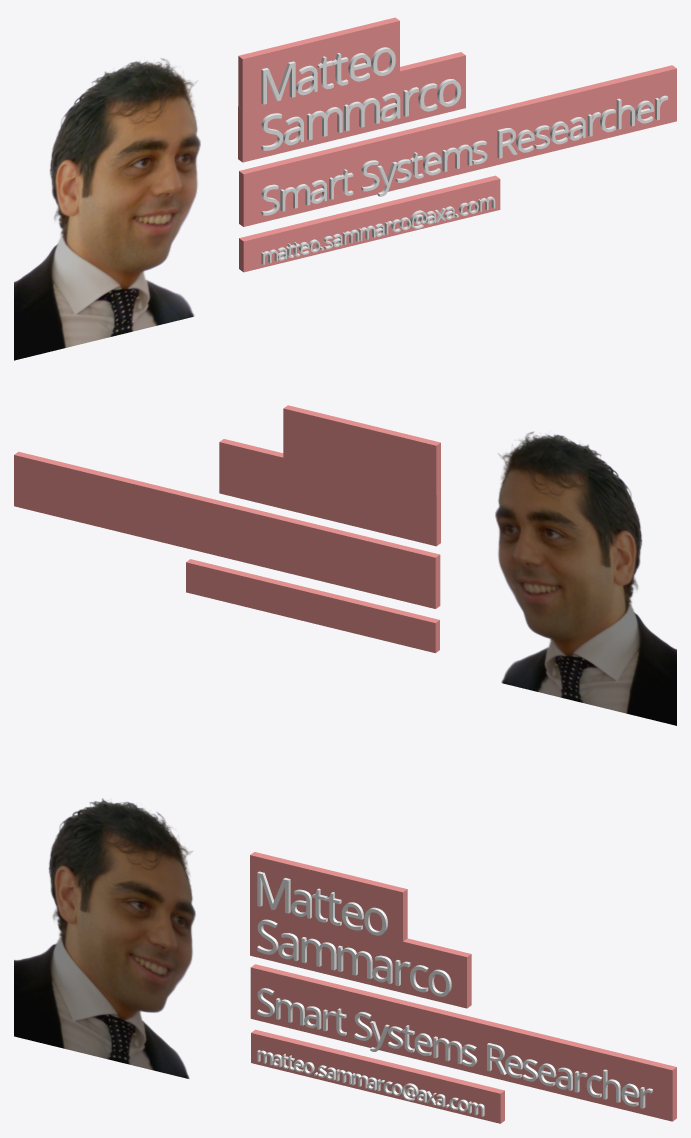
File: Matteo.gltf
The picture shows the model from 3 angles, top to bottom: view 1: azimuth 30°, elevation 25°; view 2: azimuth 150°, elevation 25°; view 3: azimuth 330°, elevation 25°; orthographic projection. The views are drawn at different scales.
Visible parts, largest first — view 1: Matteo, Box 3, Box 2, Box, Box 1, m (×2), M; view 2: Matteo, Box 3, Box 2, Box, Box 1; view 3: Matteo, Box 3, Box 2, Box, Box 1, m (×2), M.
Boxes of the visible parts, x1=… form: Matteo: x1=14, y1=58, x2=200, y2=360; Box 3: x1=239, y1=65, x2=676, y2=226; Box 2: x1=238, y1=52, x2=465, y2=162; Box: x1=239, y1=175, x2=500, y2=272; Box 1: x1=238, y1=17, x2=399, y2=111; m (×2): x1=307, y1=98, x2=379, y2=140; M: x1=261, y1=61, x2=295, y2=104; Matteo: x1=495, y1=431, x2=676, y2=725; Box 3: x1=14, y1=451, x2=440, y2=608; Box 2: x1=219, y1=439, x2=440, y2=546; Box: x1=186, y1=559, x2=439, y2=653; Box 1: x1=283, y1=405, x2=440, y2=496; Matteo: x1=14, y1=798, x2=195, y2=1078; Box 3: x1=250, y1=964, x2=676, y2=1121; Box 2: x1=250, y1=904, x2=471, y2=1008; Box: x1=251, y1=1029, x2=504, y2=1123; Box 1: x1=250, y1=852, x2=407, y2=941; m (×2): x1=301, y1=937, x2=372, y2=979; M: x1=257, y1=871, x2=290, y2=913.
Bounding box in the file's own units: 0.5046 × 0.2089 × 0.015.
Materials: 6 (1 with a texture image).
